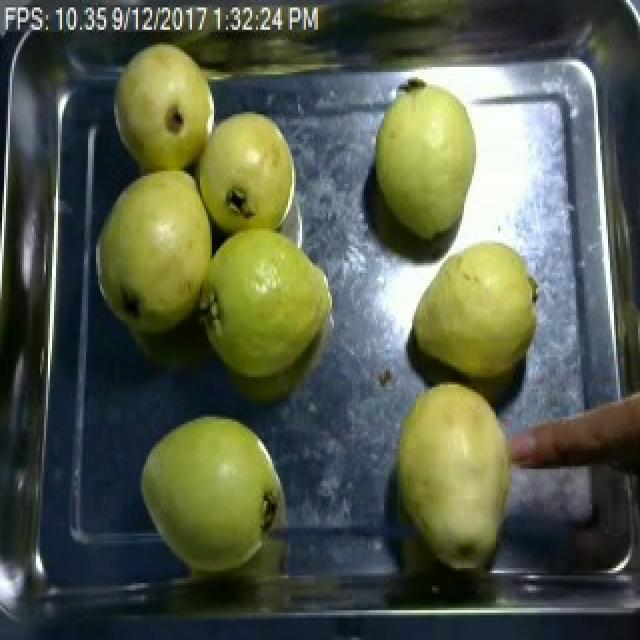Fruit: (192, 203, 350, 390), (82, 159, 236, 347), (384, 367, 520, 578), (398, 226, 558, 404), (134, 407, 294, 580), (168, 97, 314, 268), (360, 70, 490, 248), (106, 34, 228, 184)
